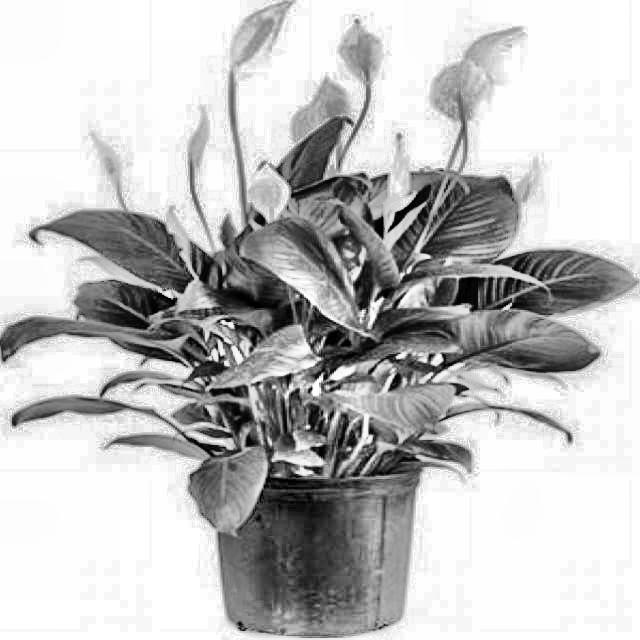plants: (7, 102, 562, 459)
